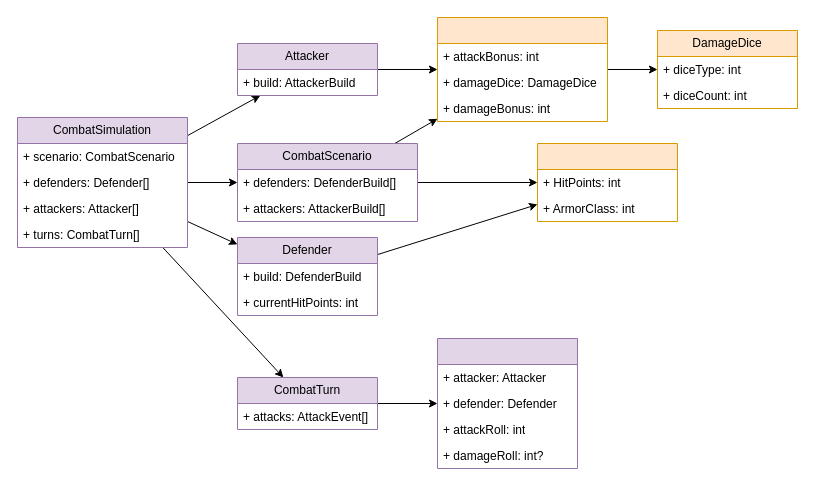
Image size: 815x489. Some labels were removed from this diagram. Each missing label, with the box of its shape:
AttackerBuild: (436, 16, 608, 122)
AttackEvent: (436, 338, 578, 468)
DefenderBuild: (536, 142, 678, 222)
